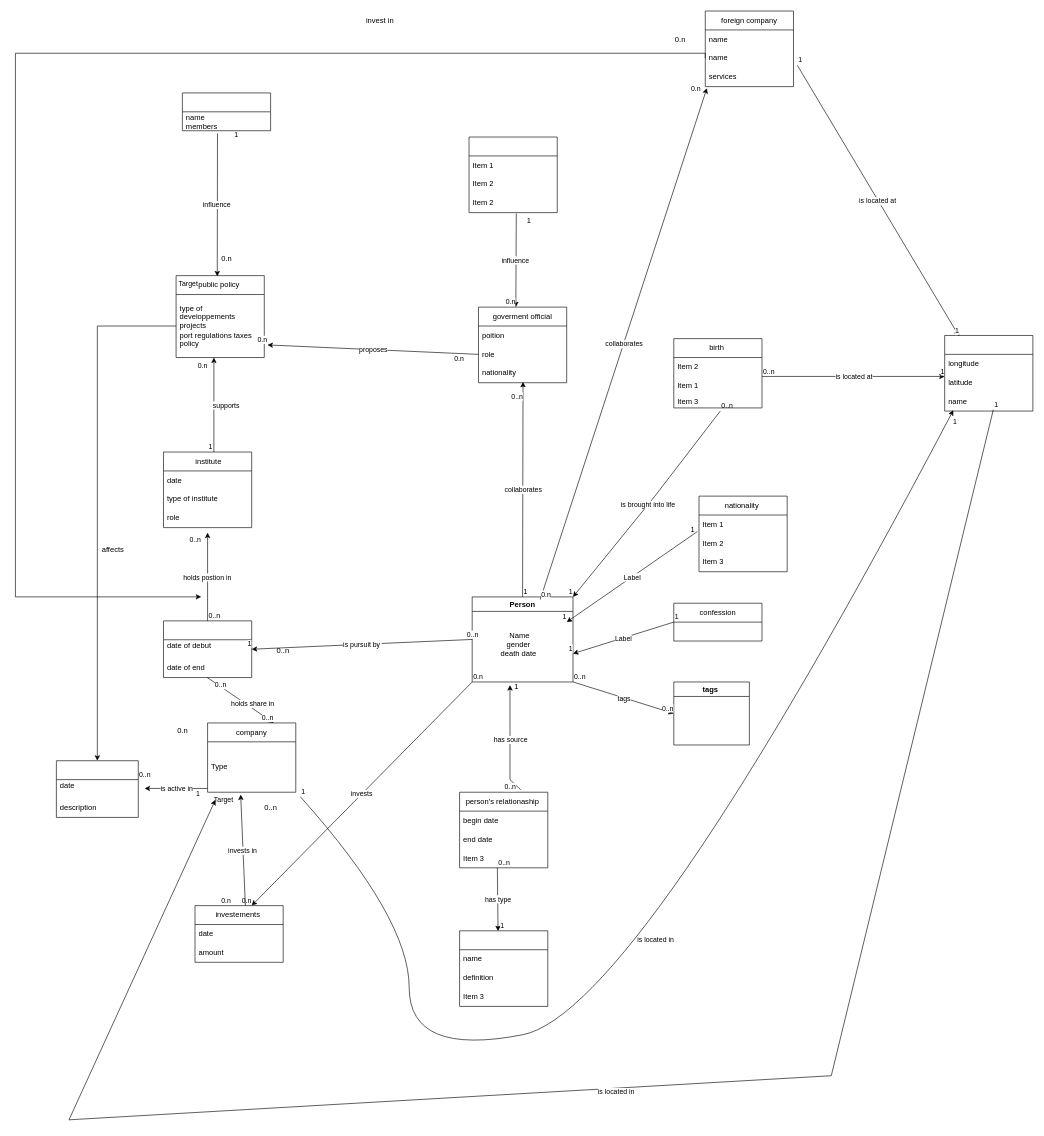
The diagram is 1044 pixels wide and 1136 high, and some of its shapes have lost their labels. The shapes that lost their labels are listed below. From the top down, each one's box as (x1, y1, x2, y2) in pixels, then its label:
(182, 92, 271, 131): foreign institute
(468, 136, 557, 213): colonial policy
(944, 335, 1033, 411): geographical place
(163, 620, 252, 678): activity
(56, 760, 138, 817): business sector
(459, 930, 548, 1006): person relationship's type
